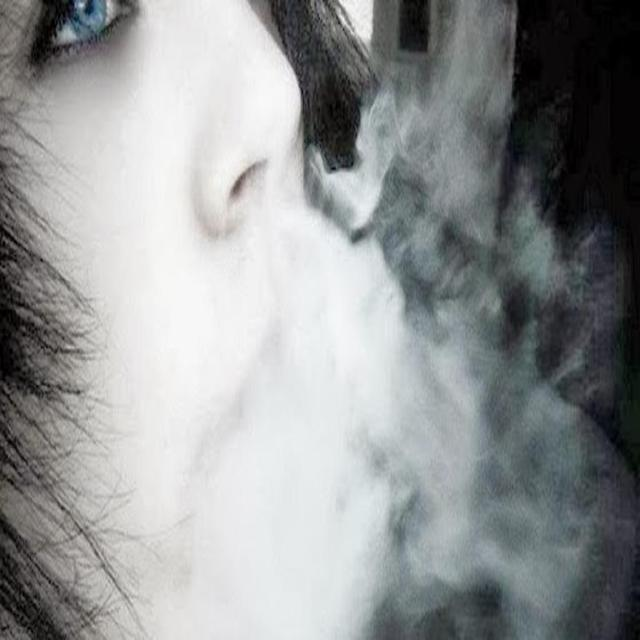smoking: (3, 1, 638, 636)
